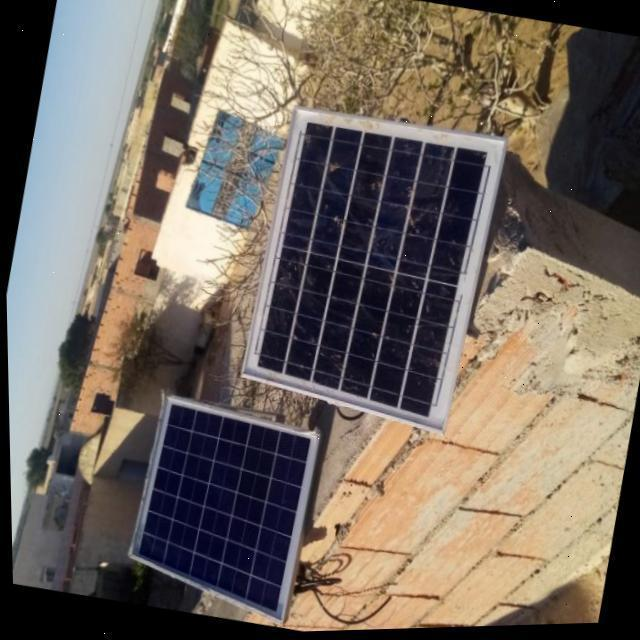Normal Solar Panel: (112, 390, 324, 634)
